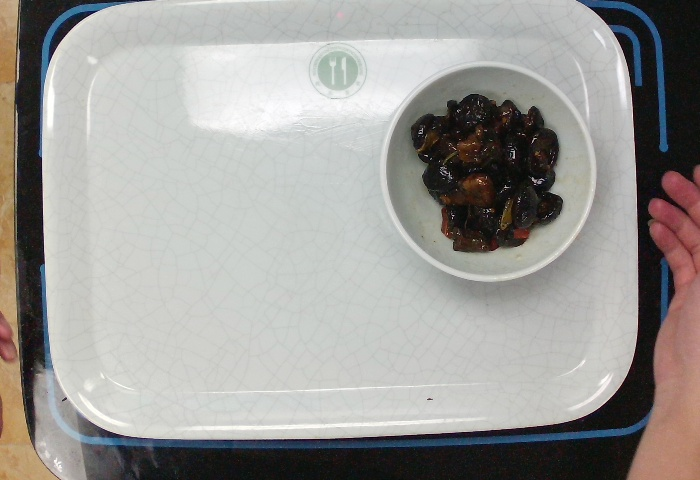JYsf-Fan_Wan: (372, 58, 603, 289)
